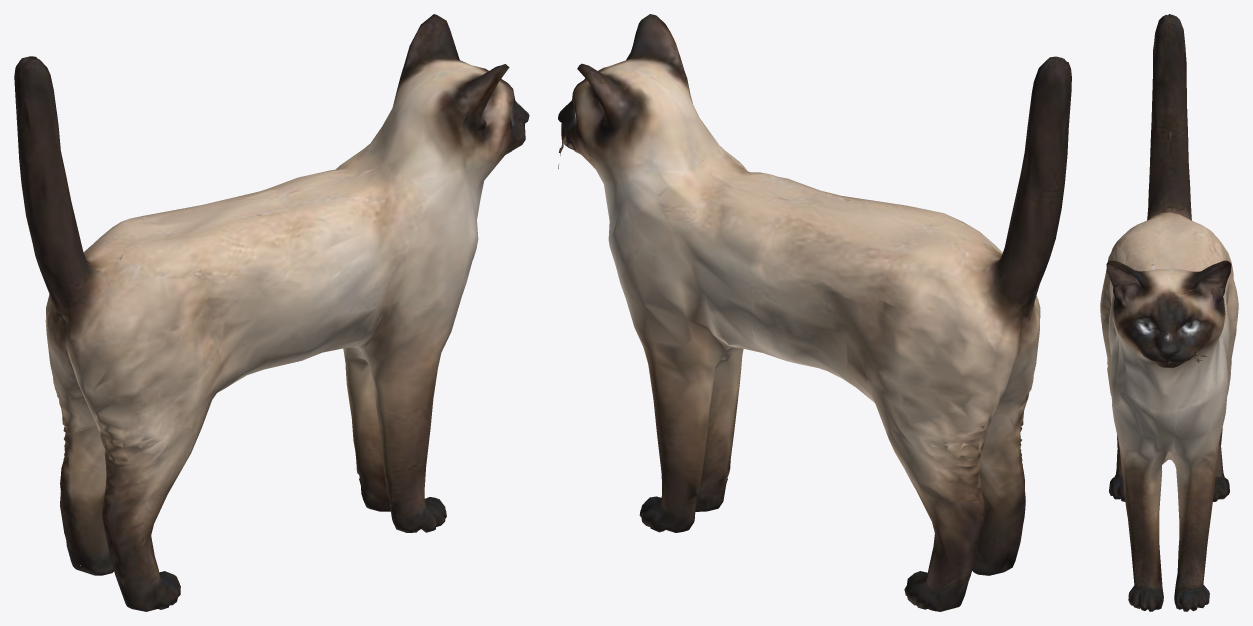
Rendered from LEFTFANG-lo.glb.
3 views of the same model, side by side, from view 1: azimuth 30°, elevation 25°; view 2: azimuth 150°, elevation 25°; view 3: azimuth 270°, elevation 25° (orthographic). The views are drawn at different scales.
Parts seen in each view (by area): view 1: tripo_node_8cb1218d-89d5-43c1-8acc-d07bef95ea62; view 2: tripo_node_8cb1218d-89d5-43c1-8acc-d07bef95ea62; view 3: tripo_node_8cb1218d-89d5-43c1-8acc-d07bef95ea62.
Part boxes in pixels (x1,y1,x2,y2): tripo_node_8cb1218d-89d5-43c1-8acc-d07bef95ea62: [14, 14, 529, 611]; tripo_node_8cb1218d-89d5-43c1-8acc-d07bef95ea62: [558, 14, 1071, 611]; tripo_node_8cb1218d-89d5-43c1-8acc-d07bef95ea62: [1100, 14, 1238, 611].
Size of the model in its own units: 0.9665 by 1 by 0.2838.
Materials: 1 (1 with a texture image).
